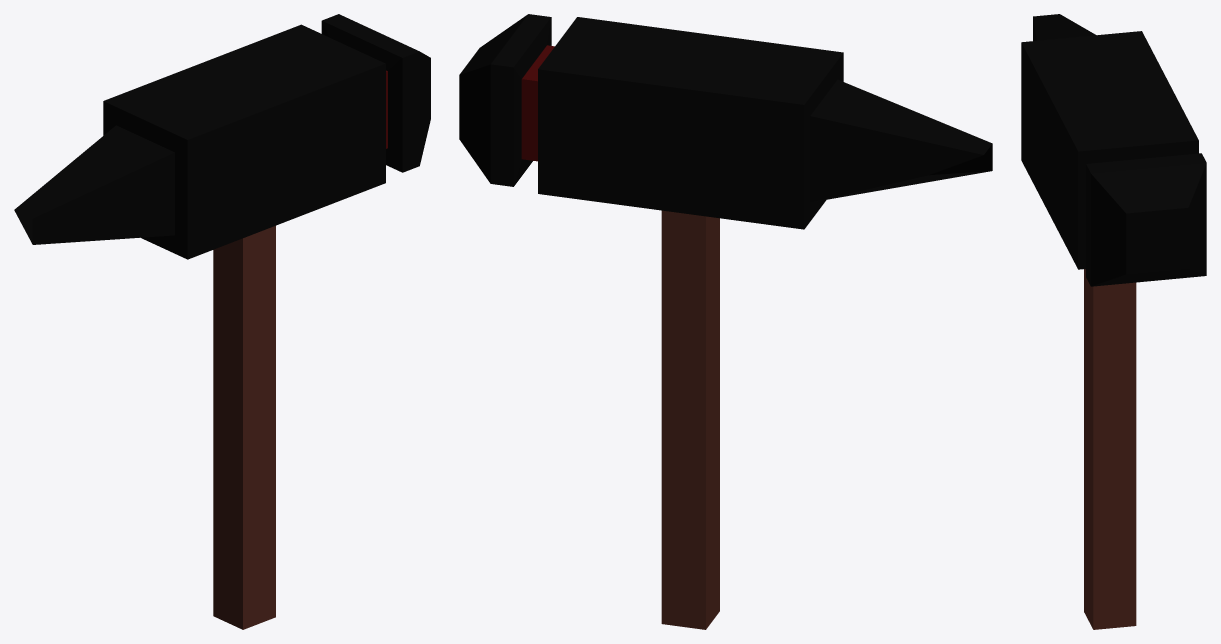
File: super hammer.obj
The picture shows the model from 3 angles, left to right: view 1: azimuth 30°, elevation 25°; view 2: azimuth 150°, elevation 25°; view 3: azimuth 270°, elevation 25°; orthographic projection. The views are drawn at different scales.
Parts seen in each view (by area): view 1: Cube.002, Cube.001; view 2: Cube.002, Cube.001; view 3: Cube.002, Cube.001.
Boxes of the visible parts, left/top/right/bottom form: Cube.002: left=14, top=14, right=430, bottom=259; Cube.001: left=213, top=225, right=275, bottom=629; Cube.002: left=459, top=14, right=992, bottom=229; Cube.001: left=661, top=210, right=719, bottom=629; Cube.002: left=1021, top=14, right=1206, bottom=286; Cube.001: left=1084, top=269, right=1136, bottom=629.
Bounding box in the file's own units: 7.19 × 8.15 × 2.6.
